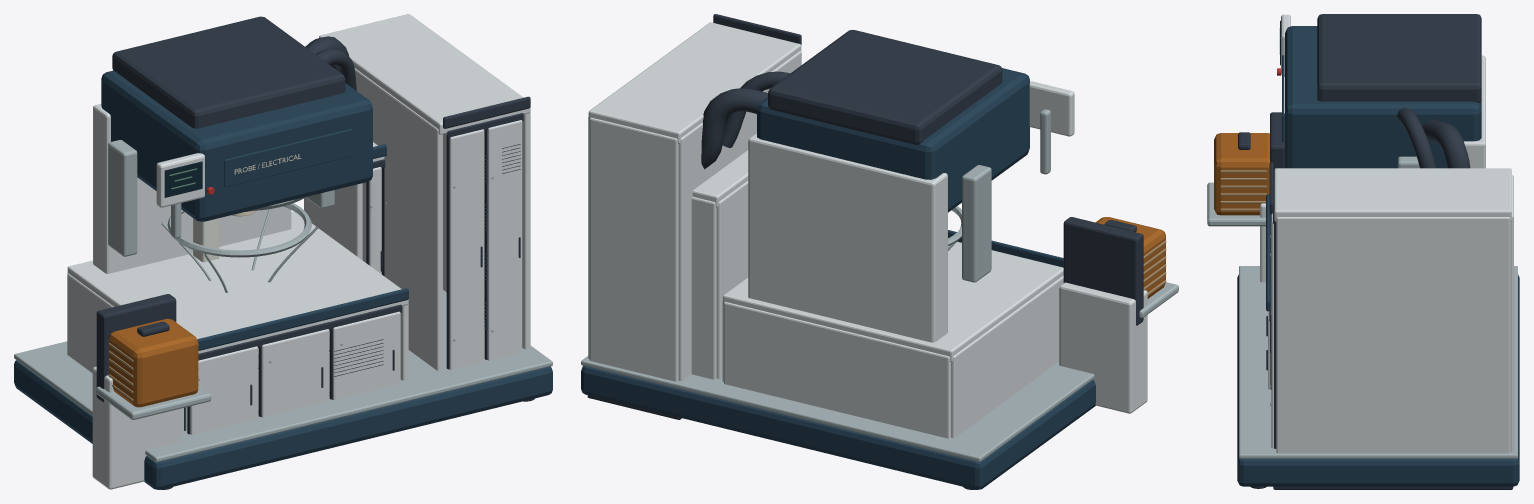
Rendered from equipment-probe.glb.
The picture shows the model from 3 angles, left to right: view 1: azimuth 30°, elevation 25°; view 2: azimuth 150°, elevation 25°; view 3: azimuth 270°, elevation 25°; orthographic projection. The views are drawn at different scales.
Parts seen in each view (by area): view 1: Filtered ceiling.001, Large cantilever test head, Probe head upper housing, Side service skin.004, Segmented service plinth, Raised deck edge, Filtered ceiling.002, Removable service door.005, Removable service door.006, Prober rear precision upright, Amber wafer transport pod, Independent load port base (+23 smaller); view 2: Prober rear precision upright, Rear utility enclosure.002, Rear utility enclosure.001, Probe head upper housing, Segmented service plinth, Large cantilever test head, Filtered ceiling.002, Raised deck edge, Filtered ceiling.001, Side service skin.002, Independent load port base, Pod docking bulkhead (+12 smaller); view 3: Side service skin.005, Probe head upper housing, Large cantilever test head, Filtered ceiling.002, Segmented service plinth, Raised deck edge, Amber wafer transport pod, Test head cable loom, Tester signal bundle, Rear utility enclosure.002, Equipment plinth.002, Prober rear precision upright (+6 smaller).
Boxes of the visible parts, box(x1,y1,x2,y2) form: Filtered ceiling.001: box(67, 211, 408, 353); Large cantilever test head: box(101, 70, 372, 221); Probe head upper housing: box(112, 16, 345, 128); Side service skin.004: box(354, 68, 442, 370); Segmented service plinth: box(14, 360, 552, 489); Raised deck edge: box(14, 290, 552, 462); Filtered ceiling.002: box(319, 14, 530, 134); Removable service door.005: box(449, 129, 484, 369); Removable service door.006: box(487, 120, 522, 360); Prober rear precision upright: box(93, 104, 291, 273); Amber wafer transport pod: box(108, 318, 198, 407); Independent load port base: box(92, 366, 180, 489); Prober rear precision upright: box(748, 133, 947, 342); Rear utility enclosure.002: box(589, 117, 678, 381); Rear utility enclosure.001: box(724, 302, 950, 438); Probe head upper housing: box(768, 30, 1002, 144); Segmented service plinth: box(581, 365, 1095, 489); Large cantilever test head: box(757, 68, 1029, 212); Filtered ceiling.002: box(588, 22, 801, 143); Raised deck edge: box(581, 356, 1094, 462); Filtered ceiling.001: box(723, 241, 1063, 361); Side service skin.002: box(951, 276, 1063, 437); Independent load port base: box(1059, 282, 1147, 413); Pod docking bulkhead: box(1063, 217, 1143, 325); Side service skin.005: box(1276, 217, 1510, 453); Probe head upper housing: box(1317, 14, 1481, 102); Large cantilever test head: box(1285, 26, 1481, 168); Filtered ceiling.002: box(1274, 168, 1511, 221); Segmented service plinth: box(1237, 274, 1519, 486); Raised deck edge: box(1239, 266, 1517, 458); Amber wafer transport pod: box(1214, 133, 1269, 215); Test head cable loom: box(1422, 119, 1470, 168); Tester signal bundle: box(1397, 107, 1435, 168); Rear utility enclosure.002: box(1510, 175, 1513, 451); Equipment plinth.002: box(1273, 486, 1513, 489); Prober rear precision upright: box(1464, 55, 1485, 168).
Size of the model in its own units: 7.02 by 5.18 by 4.42.
